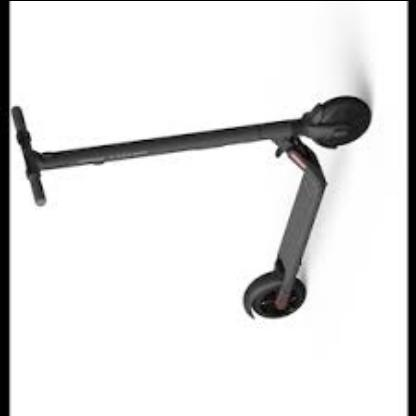bike: (12, 96, 372, 322)
